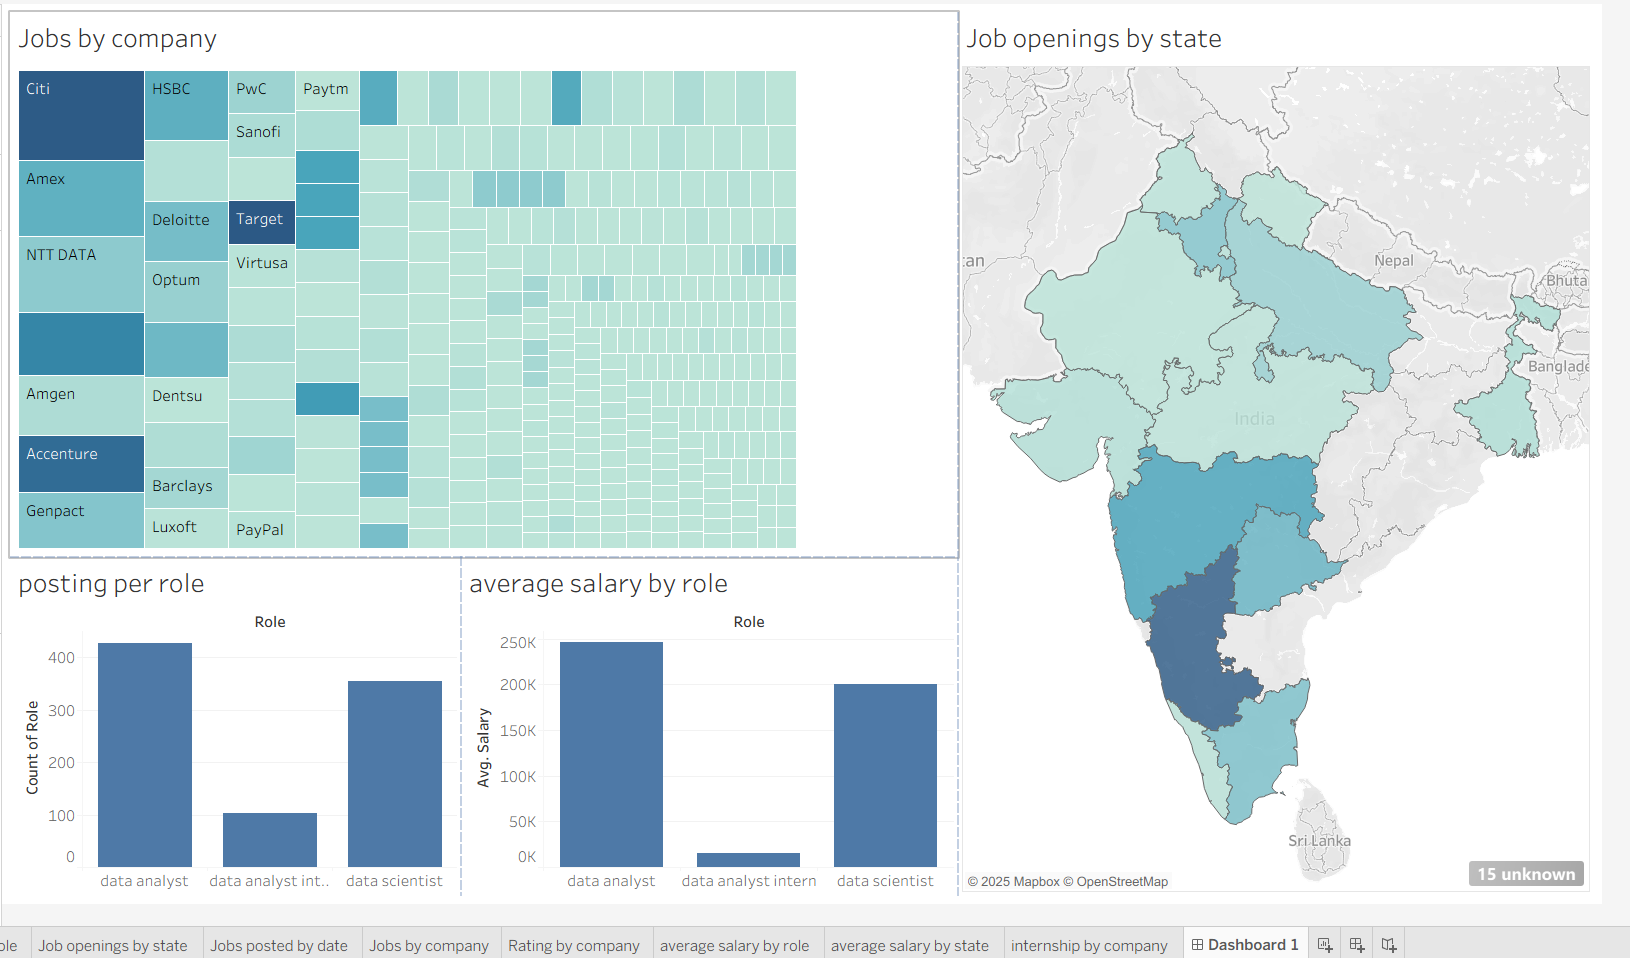

Layout of this report page (visuals, bound fields, positions):
{"tool":"tableau","page":{"name":"Dashboard 1","canvas":[1600,900],"ordinal":0},"visuals":[{"type":"worksheet","title":"Jobs by company","mark":"Automatic","box":[8,8,947.6,544.6]},{"type":"worksheet","title":"Job openings by state","mark":"Automatic","box":[955.6,8,636.4,884]},{"type":"worksheet","title":"posting per role","mark":"Automatic","rows":["role"],"cols":["role"],"box":[8,552.6,450.9,339.4]},{"type":"worksheet","title":"average salary by role","mark":"Automatic","rows":["salary"],"cols":["role"],"box":[458.9,552.6,496.7,339.4]}]}

Visuals, with their boxes on the page's 1600x900 design canvas (x1, y1, x2, y2). These are canvas units, not pixel positions in the 1630x958 screenshot, which may show the page scaled, cropped or inside an application window:
"Jobs by company" worksheet: left=8, top=8, right=956, bottom=553
"Job openings by state" worksheet: left=956, top=8, right=1592, bottom=892
"posting per role" worksheet: left=8, top=553, right=459, bottom=892
"average salary by role" worksheet: left=459, top=553, right=956, bottom=892
